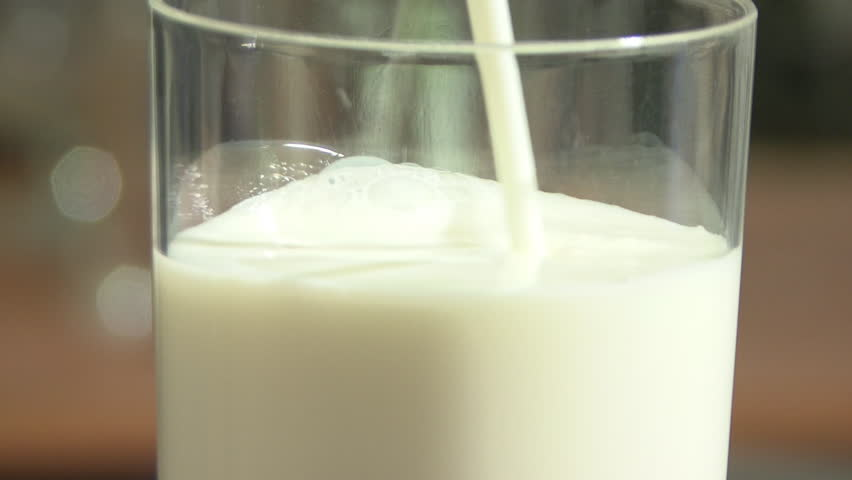glass of milk: (142, 2, 736, 480)
